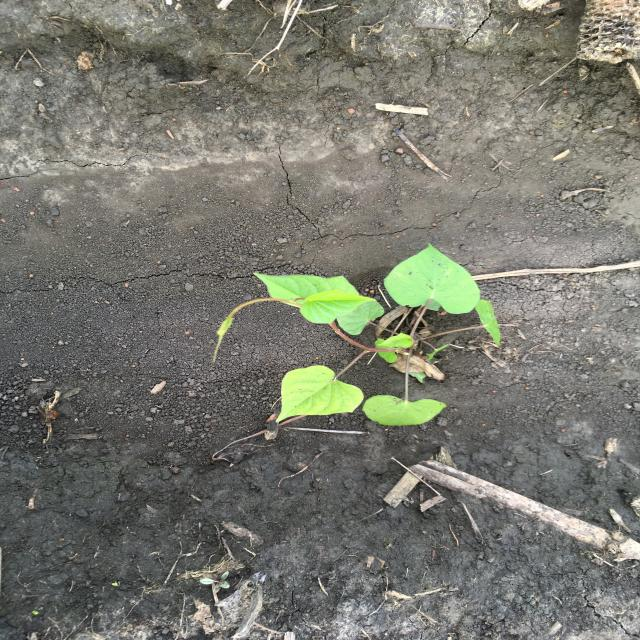MorningGlory: (211, 241, 505, 429)
